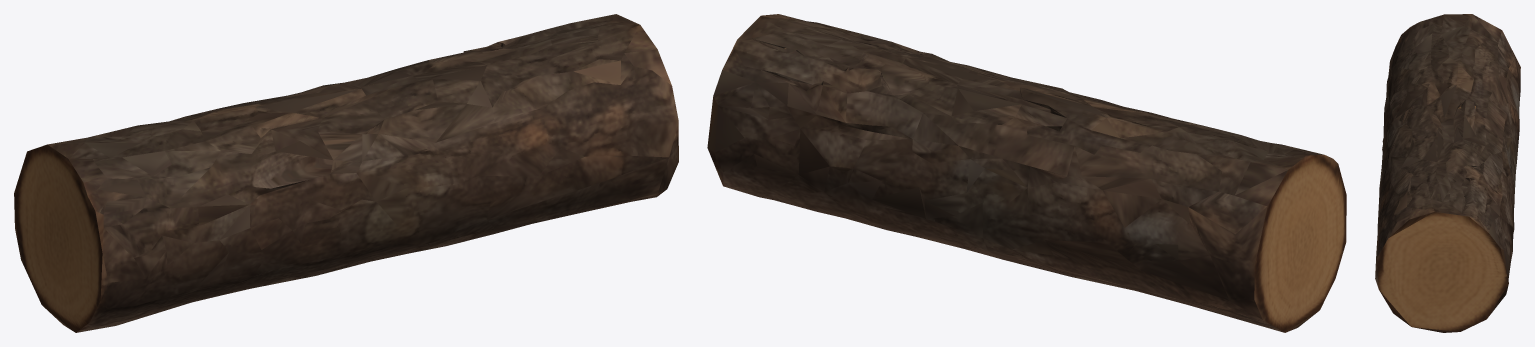
Rendered from firewood-log-lod1.glb.
3 views of the same model, side by side, from view 1: azimuth 30°, elevation 25°; view 2: azimuth 150°, elevation 25°; view 3: azimuth 270°, elevation 25° (orthographic). The views are drawn at different scales.
Parts seen in each view (by area): view 1: firewood-log.002; view 2: firewood-log.002; view 3: firewood-log.002.
Boxes of the visible parts, x1=… form: firewood-log.002: x1=14, y1=14, x2=678, y2=332; firewood-log.002: x1=707, y1=14, x2=1346, y2=332; firewood-log.002: x1=1375, y1=14, x2=1520, y2=332.
Size of the model in its own units: 1.2 by 0.3442 by 0.3676.
Materials: 1 (1 with a texture image).
